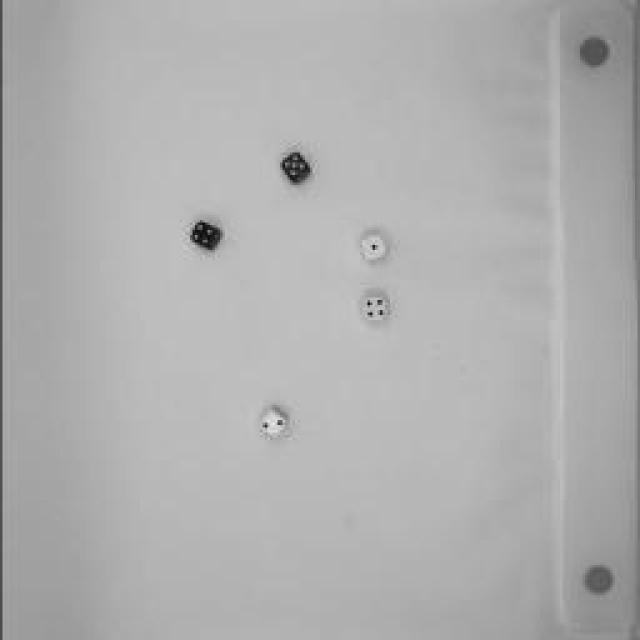dice_1: (356, 231, 389, 269)
dice_2: (252, 402, 290, 440)
dice_4: (182, 215, 226, 257), (357, 289, 395, 326)
dice_5: (274, 146, 316, 189)
